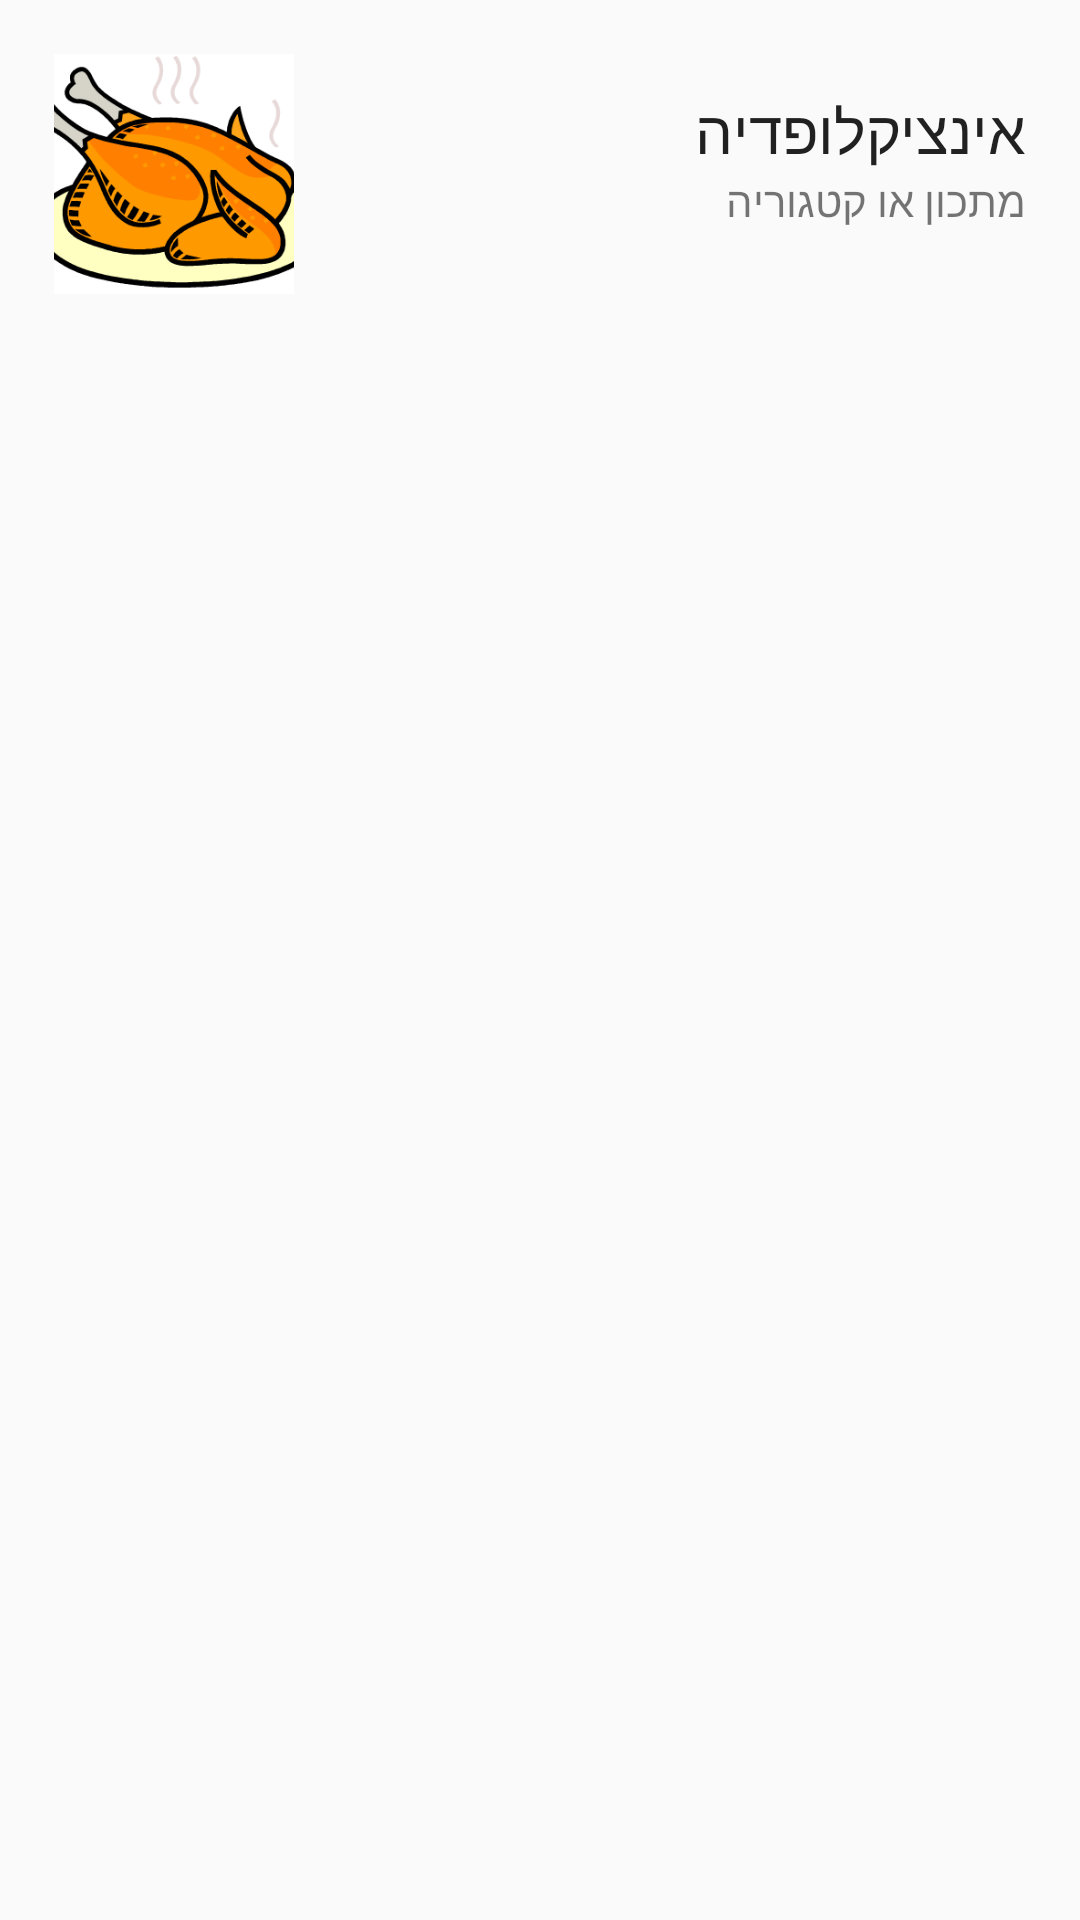

Point at icon controls on the screen. Image size 1080 x 1920, points as [x,y].
chicken: [174,172]
